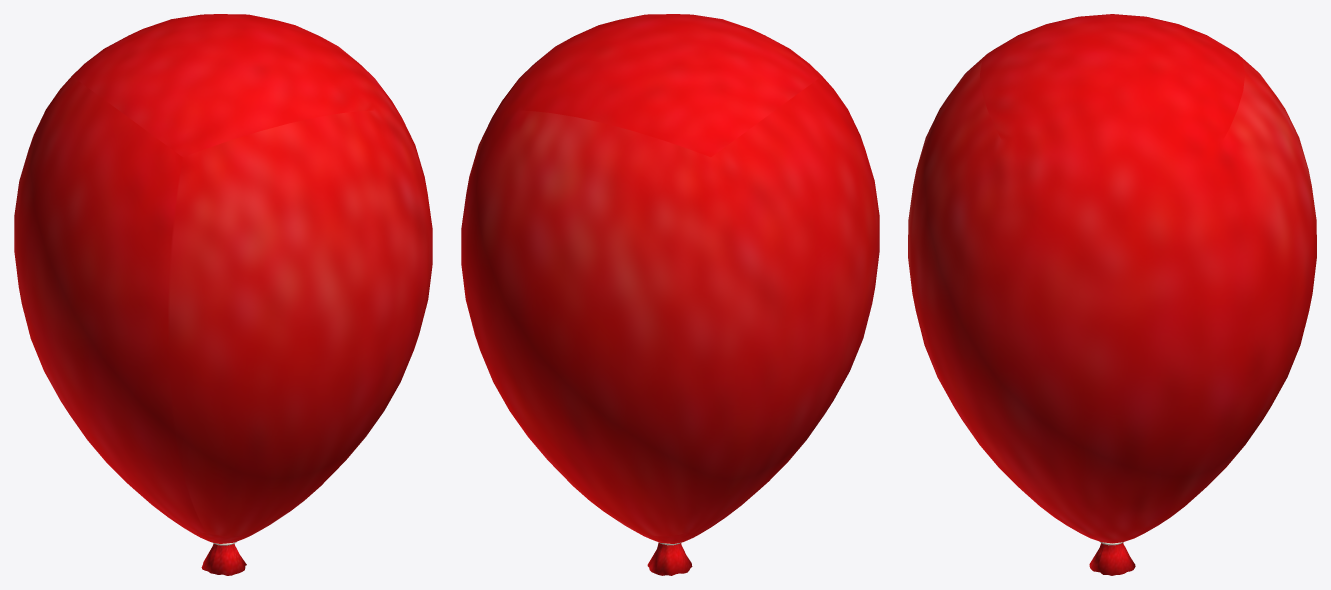
Rendered from balloon.obj.
3 renders of one model, left to right at view 1: azimuth 30°, elevation 25°; view 2: azimuth 150°, elevation 25°; view 3: azimuth 270°, elevation 25°, orthographic.
Visible parts, largest first — view 1: Cube.003, Cylinder.006; view 2: Cube.003, Cylinder.006; view 3: Cube.003, Cylinder.006.
Part boxes in pixels (x1,y1,x2,y2): Cube.003: [14, 14, 432, 543]; Cylinder.006: [201, 543, 246, 575]; Cube.003: [461, 14, 879, 543]; Cylinder.006: [647, 542, 692, 575]; Cube.003: [908, 14, 1316, 543]; Cylinder.006: [1089, 543, 1135, 575].
Size of the model in its own units: 4.61 by 6.61 by 4.61.
